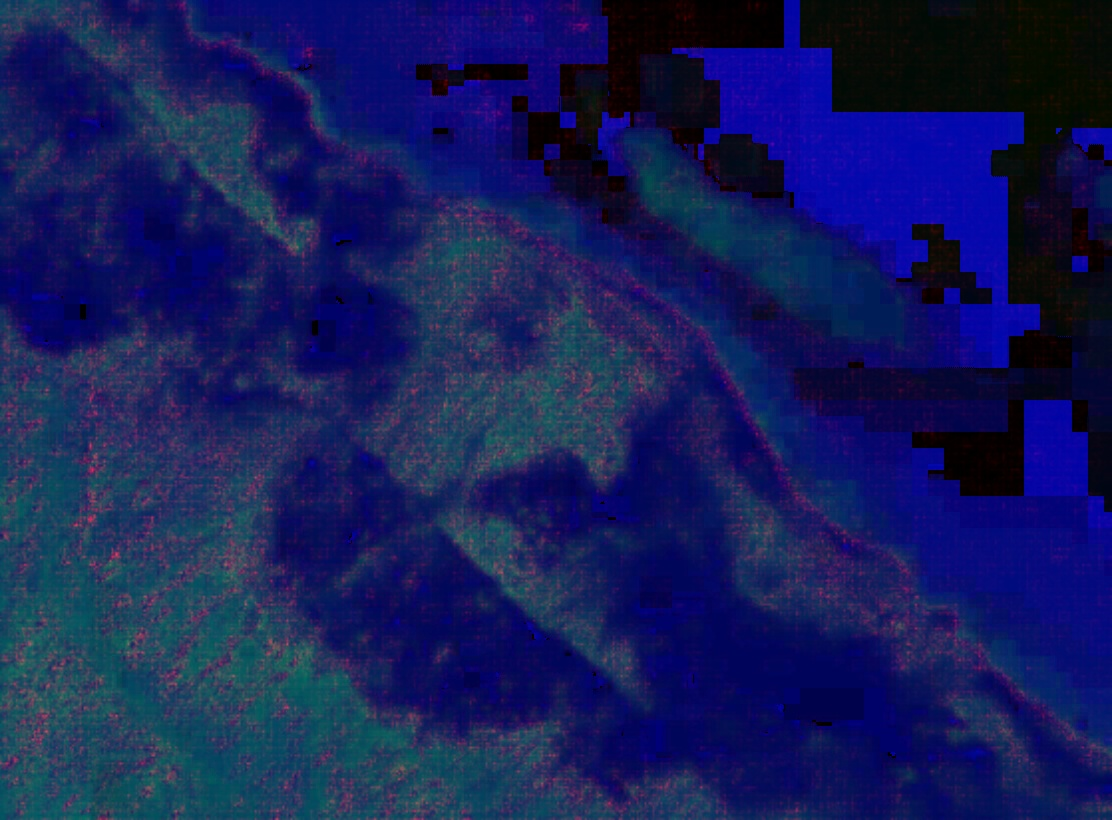rip_current: (228, 268, 626, 679)
